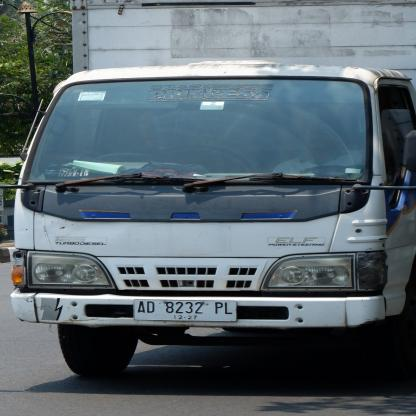Plat-Nomor: (130, 297, 251, 325)
